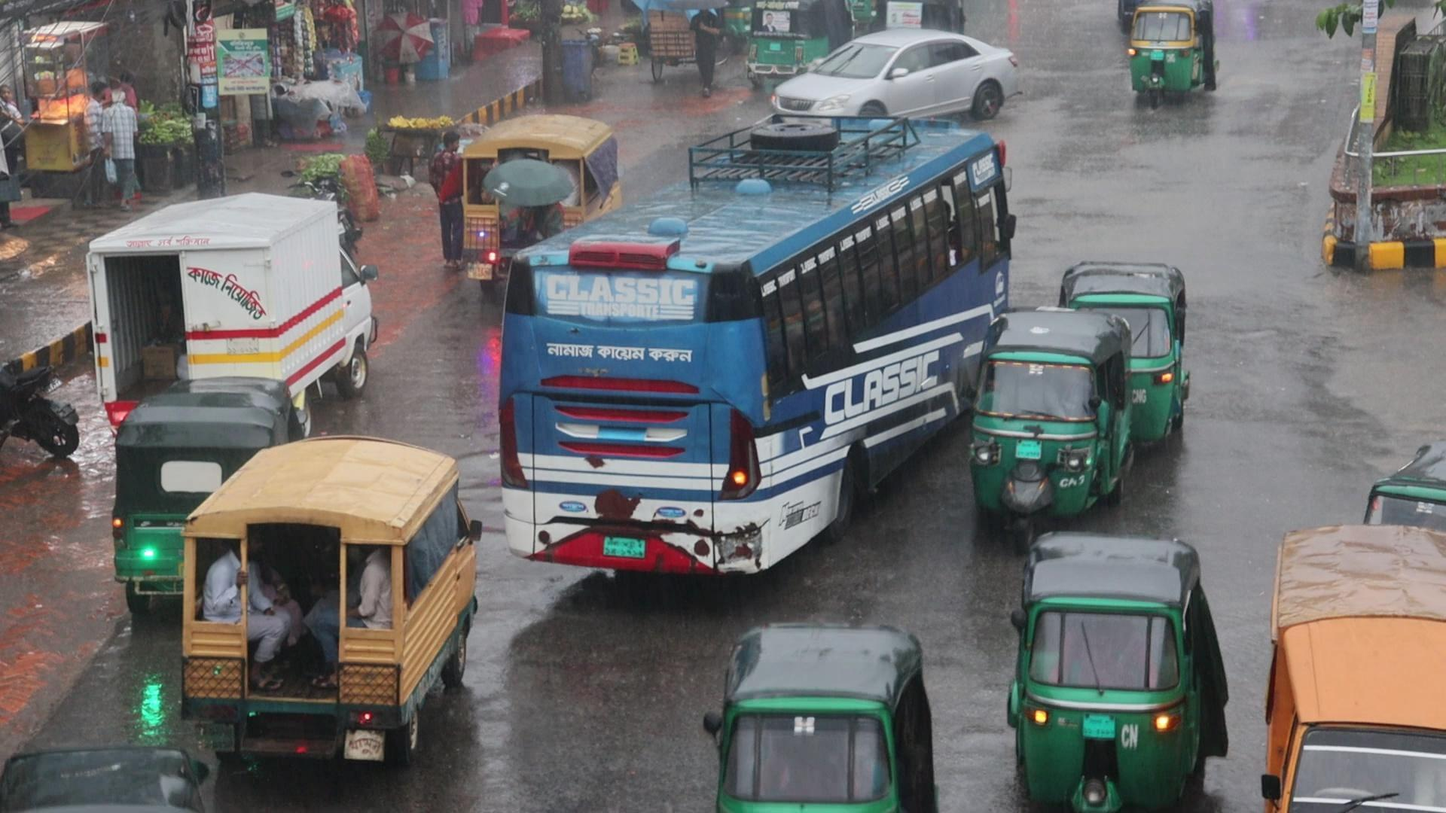Bus: (490, 109, 1016, 591)
Car: (767, 12, 1027, 137)
Truck: (181, 435, 484, 770), (448, 107, 624, 270)
